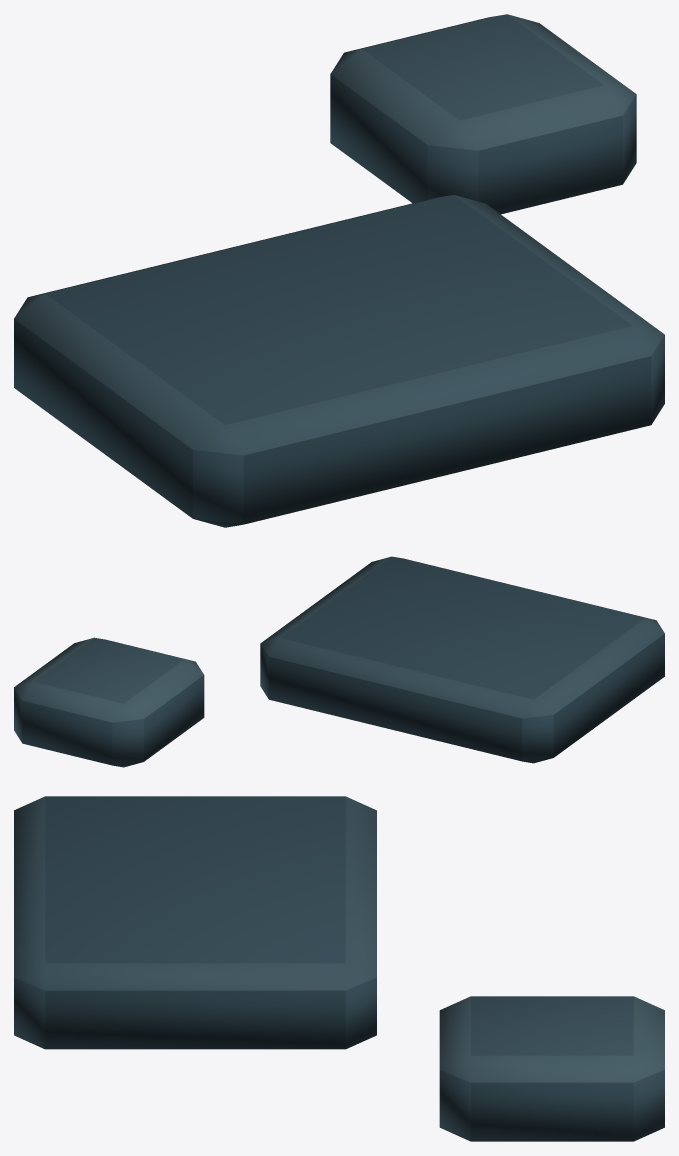
File: stone_path_12.fbx
3 views of the same model, one above another, from view 1: azimuth 30°, elevation 25°; view 2: azimuth 150°, elevation 25°; view 3: azimuth 270°, elevation 25° (orthographic). The views are drawn at different scales.
Parts seen in each view (by area): view 1: stone_path_12; view 2: stone_path_12; view 3: stone_path_12.
Boxes of the visible parts, left/top/right/bottom form: stone_path_12: left=14, top=14, right=664, bottom=527; stone_path_12: left=14, top=556, right=664, bottom=767; stone_path_12: left=14, top=796, right=664, bottom=1141.
Bounding box in the file's own units: 130 × 18.28 × 125.
